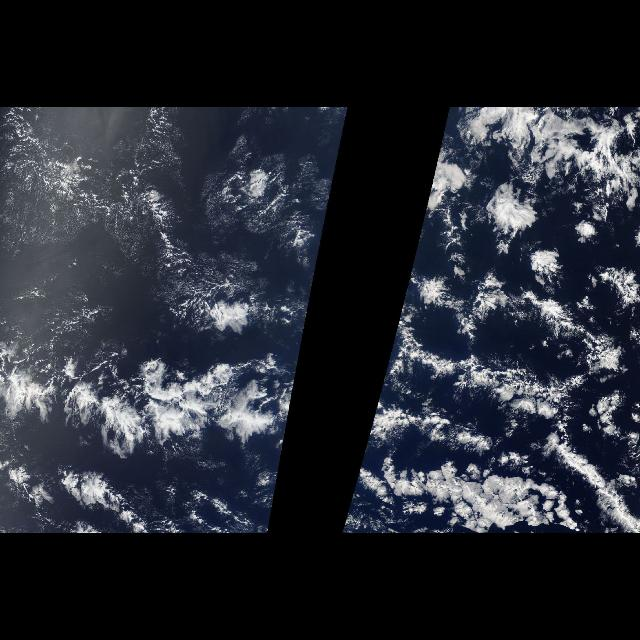Fish: (8, 286, 314, 474), (354, 286, 436, 474)
Flower: (418, 107, 640, 533)
